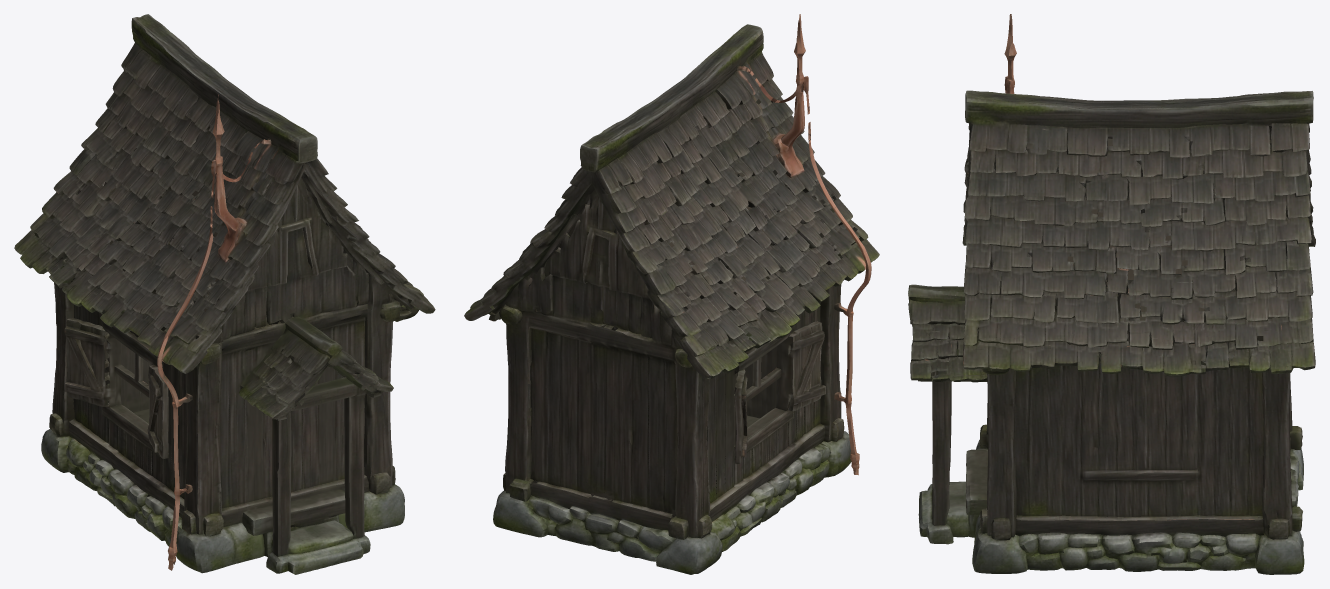
The model's file is stormwood_ranger_shelter.glb.
3 views of the same model, side by side, from view 1: azimuth 30°, elevation 25°; view 2: azimuth 150°, elevation 25°; view 3: azimuth 270°, elevation 25° (orthographic). The views are drawn at different scales.
Parts seen in each view (by area): view 1: Mesh_0; view 2: Mesh_0; view 3: Mesh_0.
Part boxes in pixels (bbox=[...]): Mesh_0: bbox=[14, 14, 435, 574]; Mesh_0: bbox=[464, 14, 879, 574]; Mesh_0: bbox=[908, 14, 1315, 574].
Size of the model in its own units: 1.18 by 1.9 by 1.48.
Materials: 1 (1 with a texture image).
